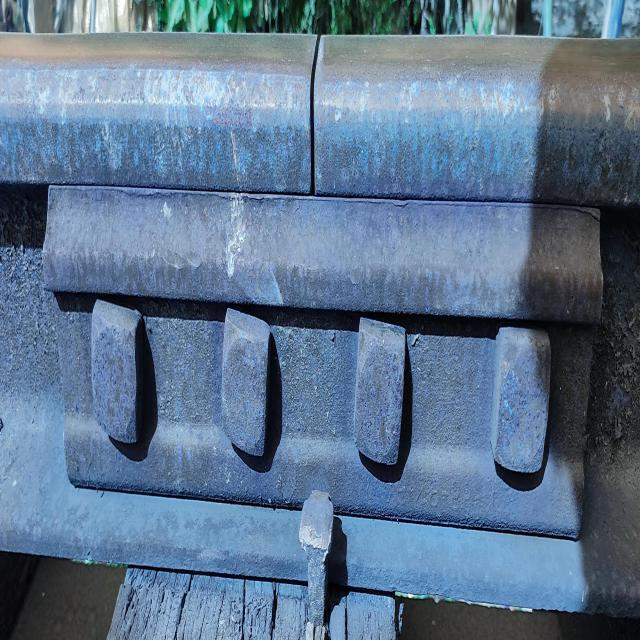Good Joint: (42, 185, 603, 538)
